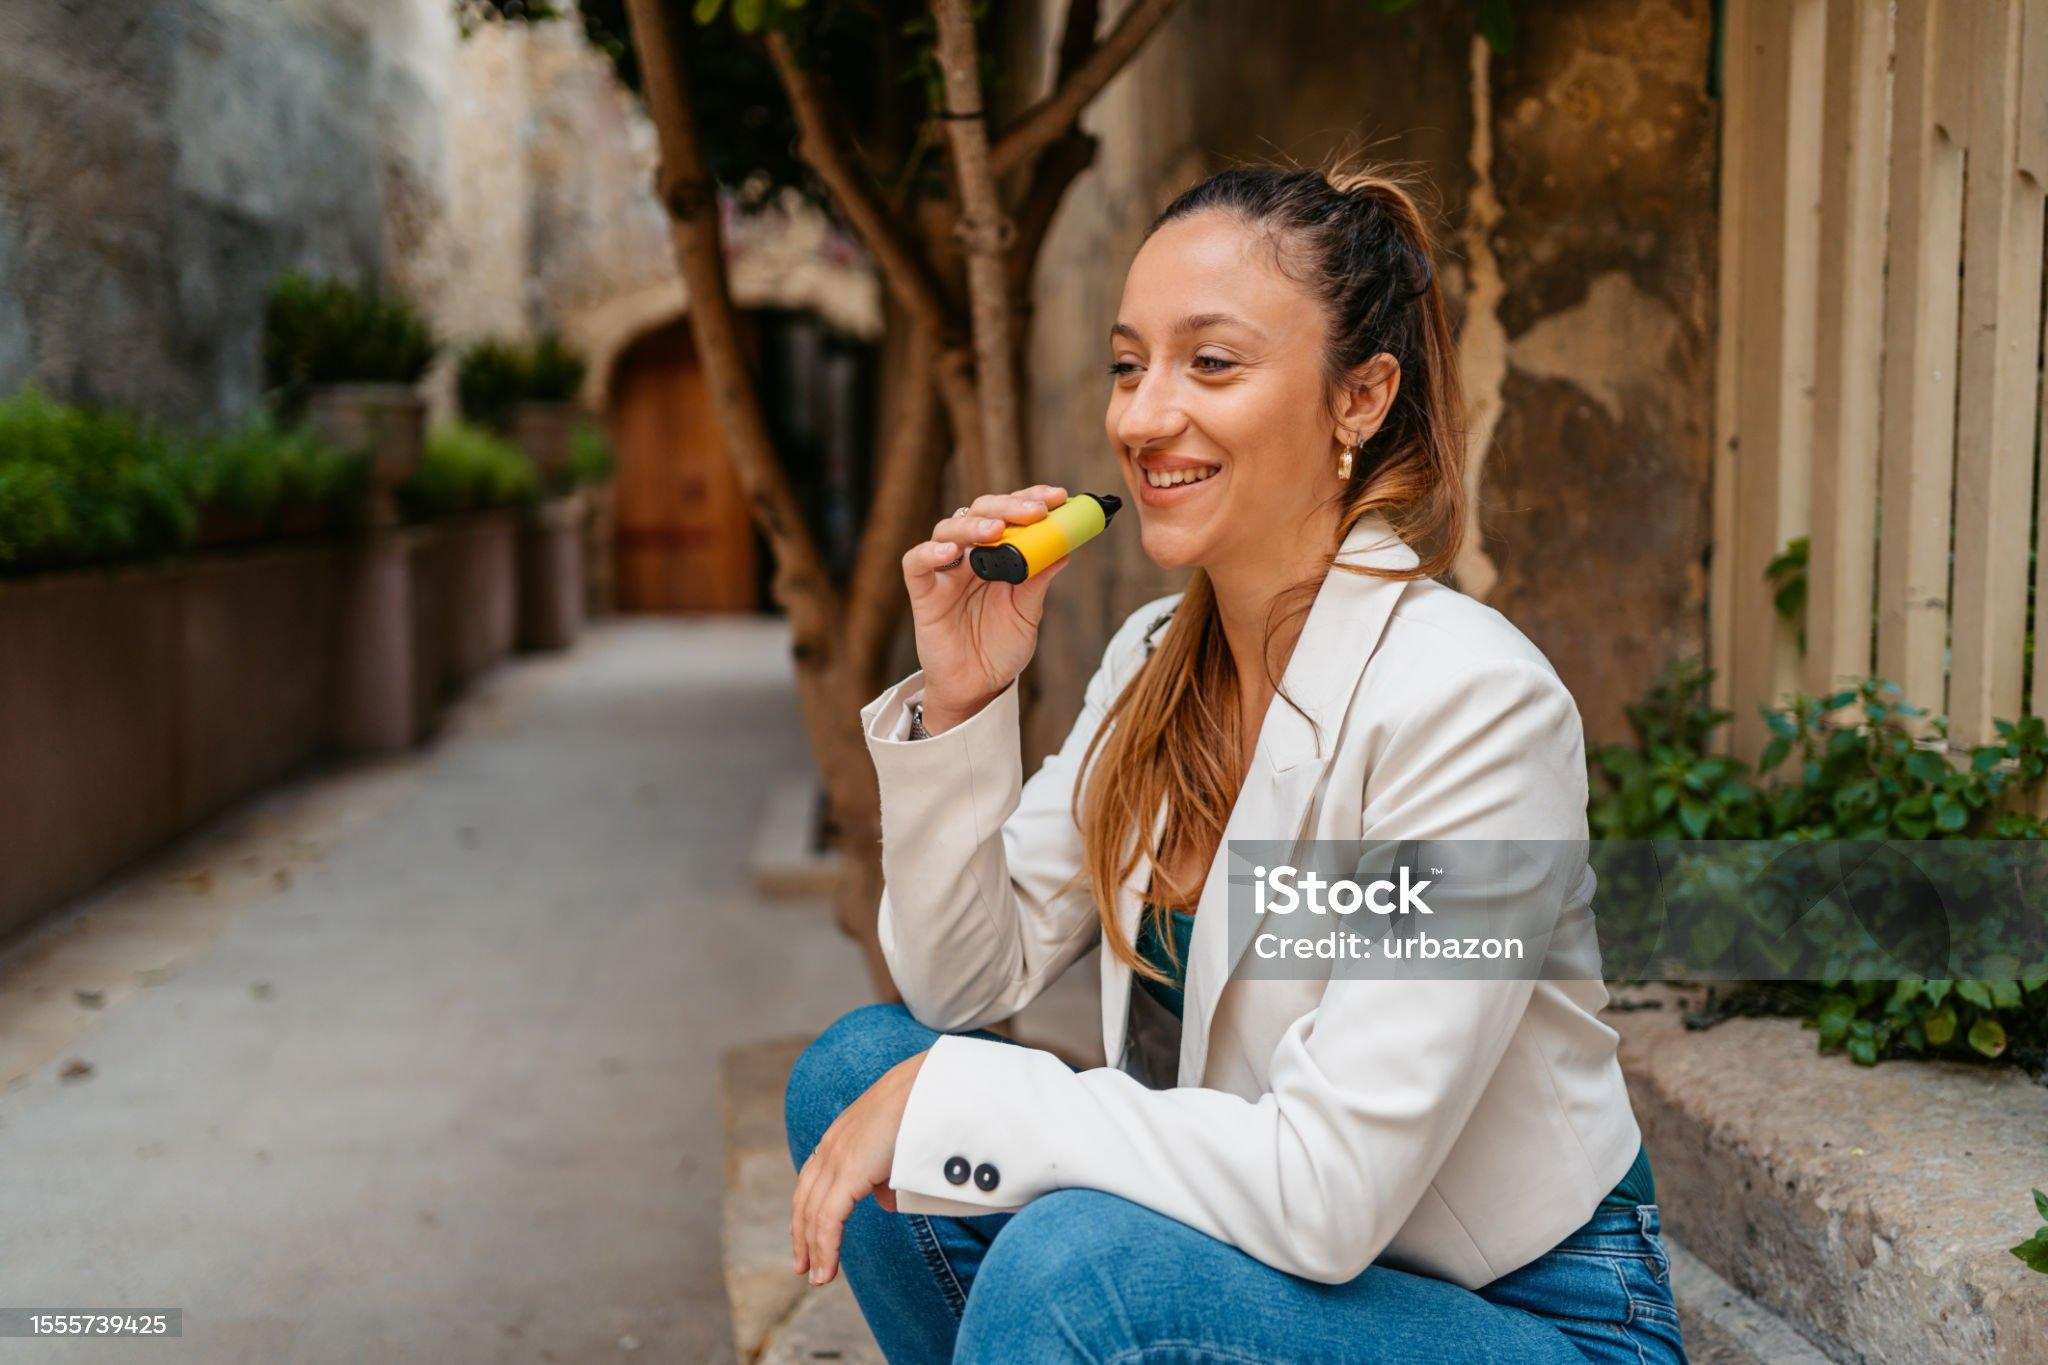Vape: (968, 492, 1124, 585)
